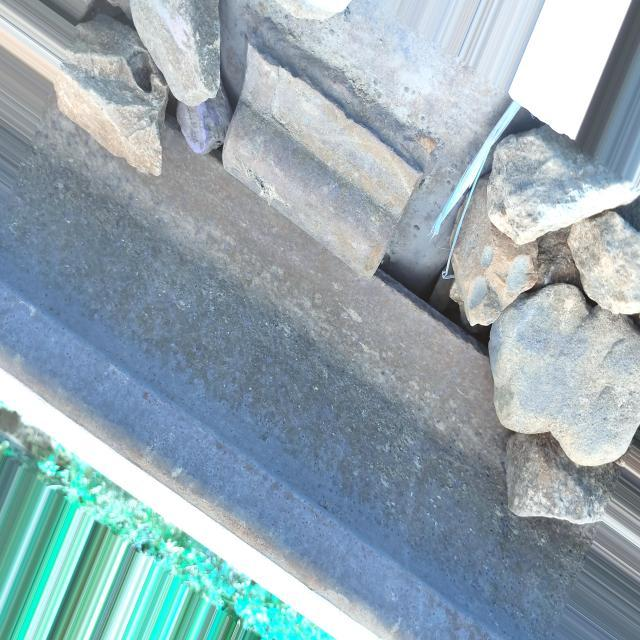Good Fasteners: (214, 17, 468, 290)
